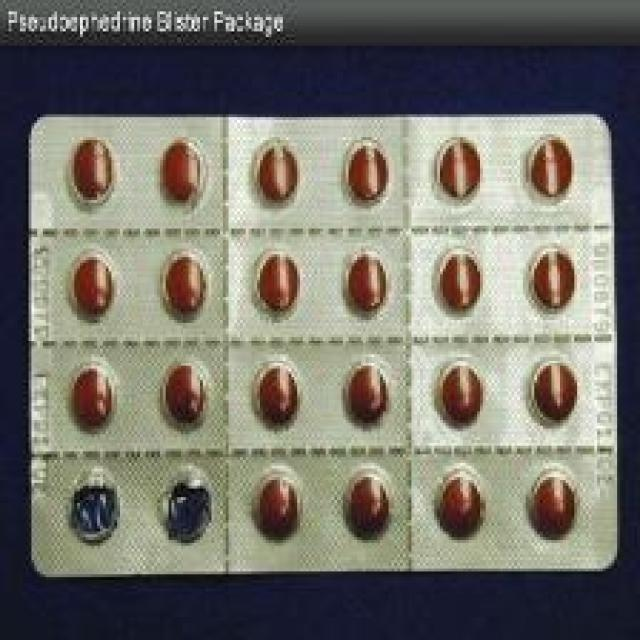Medicine: (36, 117, 607, 567)
